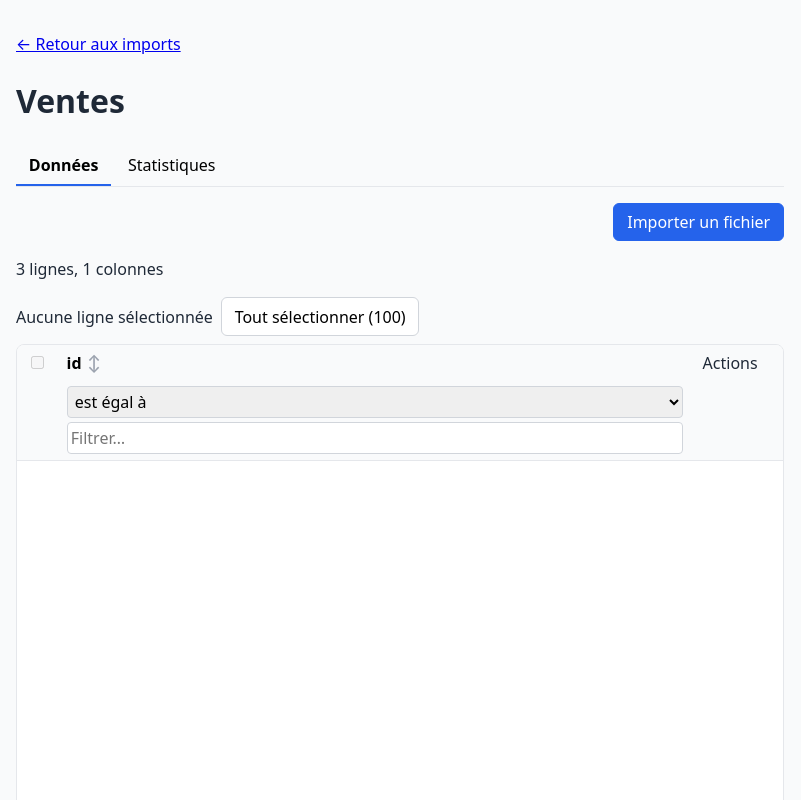
Test case: App routing › switches tabs and keeps the table state of the Data tab
Click the tab "Statistiques". click: (172, 166)
box: [115,147,228,186]
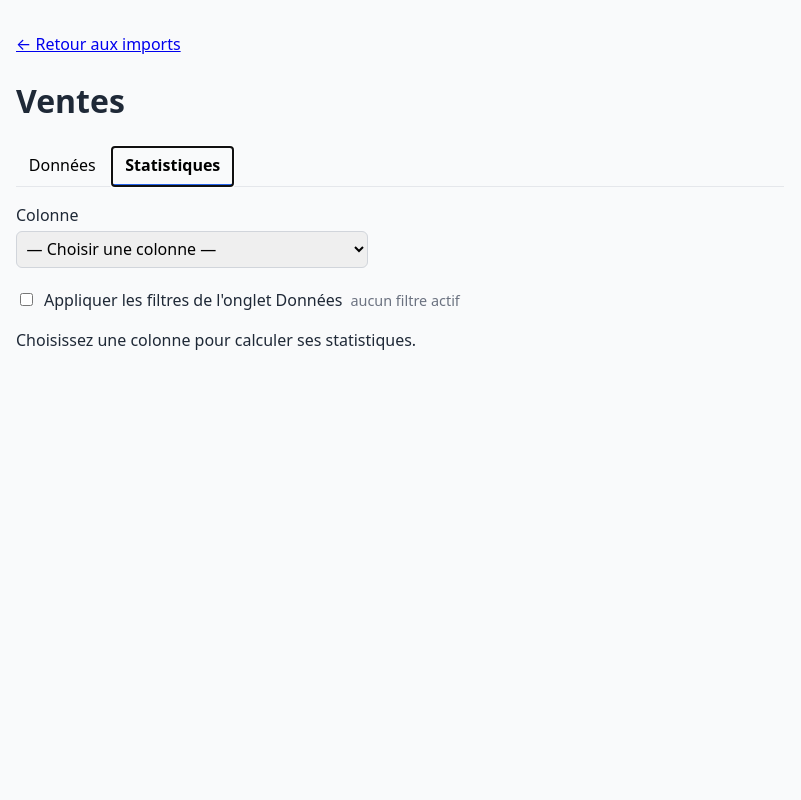
Expected: the tab "Statistiques" is selected, [112,147,233,186]
Click the tab "Données". click: (62, 166)
box: [16,147,108,186]
(page scrolled)
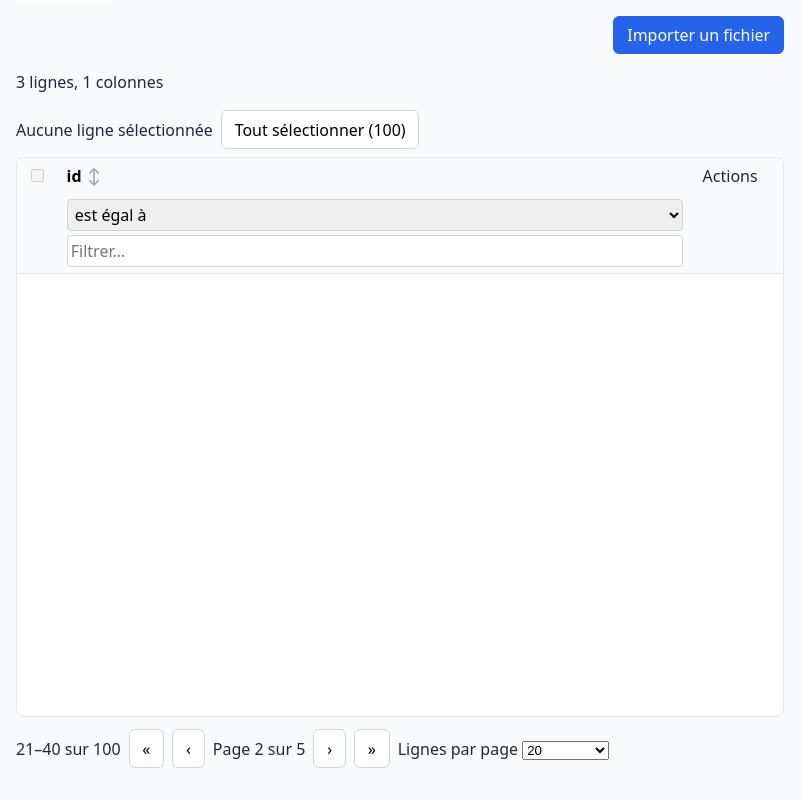
Expected: the text "Page 2 sur 5" is shown, [213,737,305,761]
